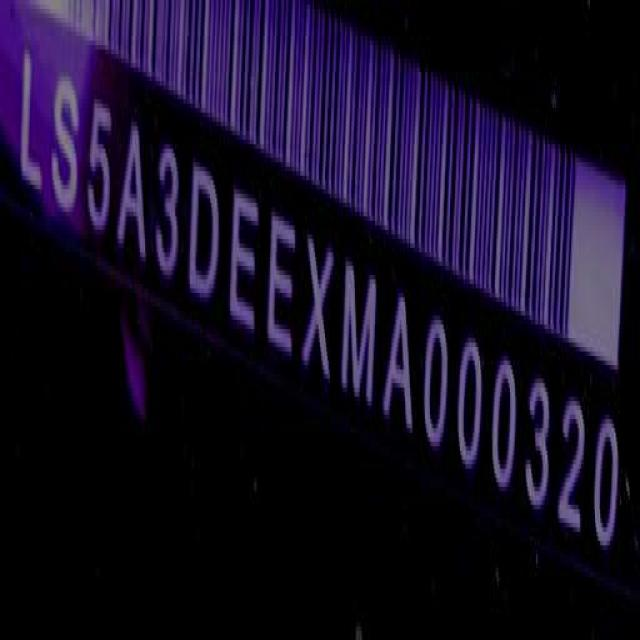0: (421, 303, 451, 459), (491, 346, 521, 500), (594, 404, 622, 561), (458, 329, 486, 482)
2: (559, 382, 589, 544)
3: (155, 130, 185, 290), (525, 363, 552, 519)
5: (86, 83, 118, 251)
A: (118, 100, 152, 276), (384, 281, 419, 444)
D: (190, 151, 226, 319)
E: (228, 171, 263, 345), (268, 201, 298, 363)
L: (13, 36, 47, 201)
M: (338, 255, 376, 424)
S: (48, 62, 84, 225)
X: (302, 219, 336, 396)
